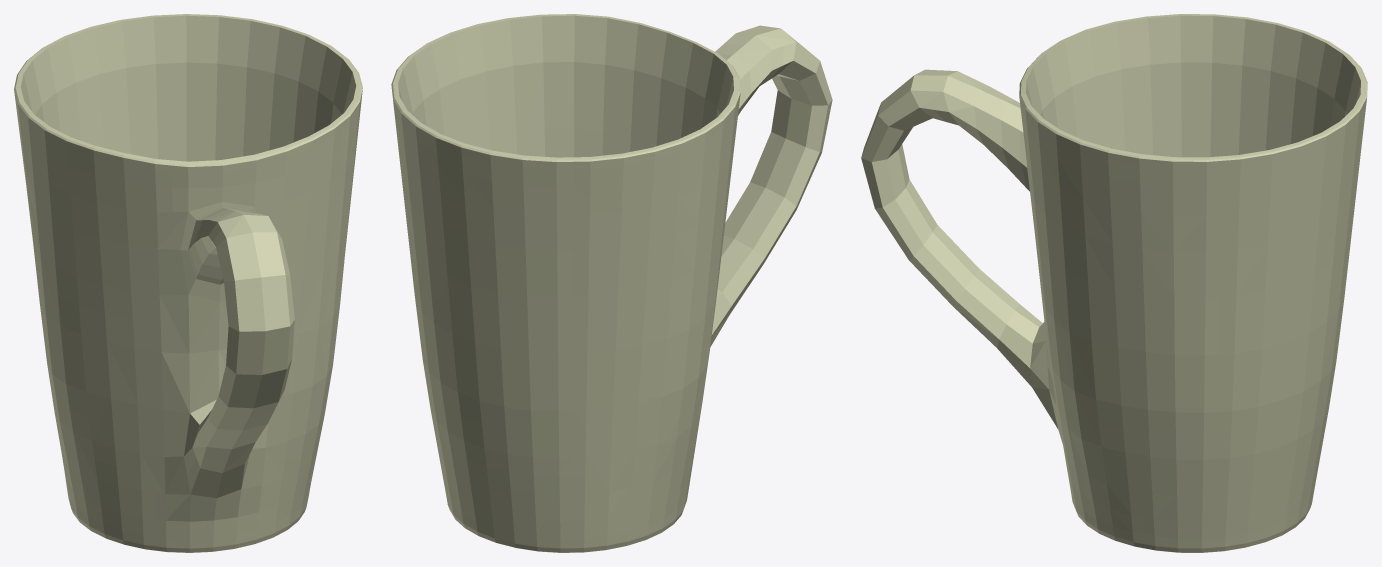
The model's file is taza2.gltf.
3 views of the same model, side by side, from view 1: azimuth 30°, elevation 25°; view 2: azimuth 150°, elevation 25°; view 3: azimuth 270°, elevation 25° (orthographic).
Visible parts, largest first — view 1: tasa; view 2: tasa; view 3: tasa.
Boxes of the visible parts, x1,y1,x2,y2 form: tasa: [14, 14, 362, 552]; tasa: [391, 14, 832, 552]; tasa: [861, 14, 1367, 552].
Bounding box in the file's own units: 1.96 × 2.59 × 2.85.
